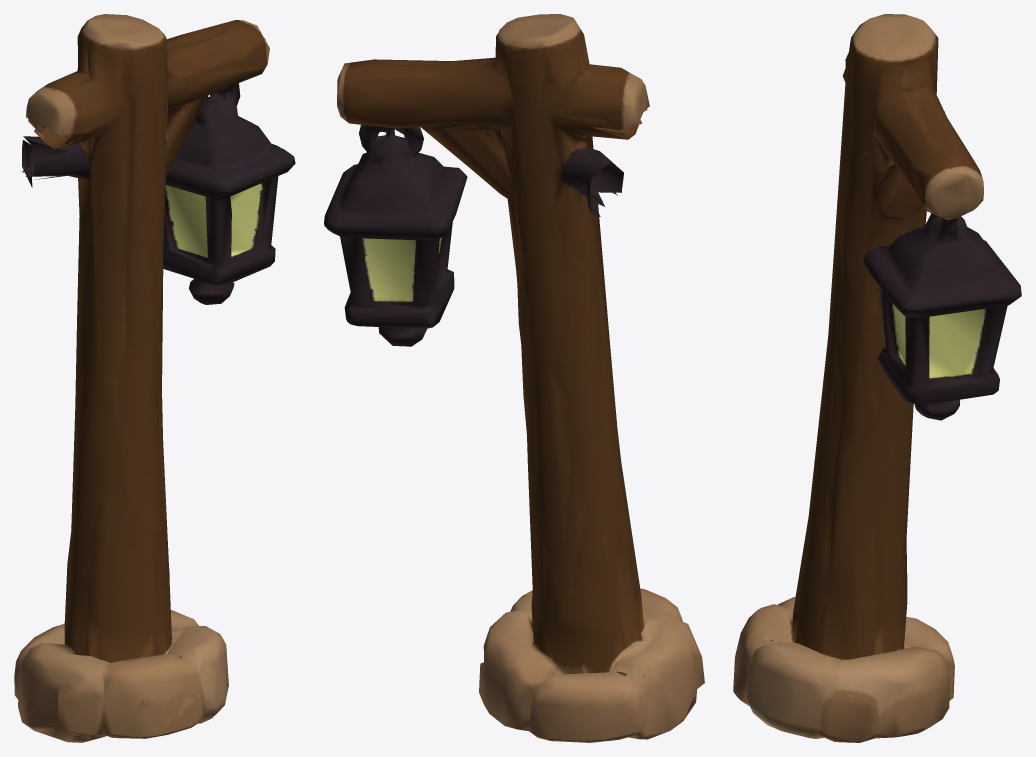
File: path-lamp.glb
3 views of the same model, side by side, from view 1: azimuth 30°, elevation 25°; view 2: azimuth 150°, elevation 25°; view 3: azimuth 270°, elevation 25° (orthographic). The views are drawn at different scales.
Bounding box in the file's own units: 1.2 × 2.6 × 0.9846.
Materials: 1 (1 with a texture image).
